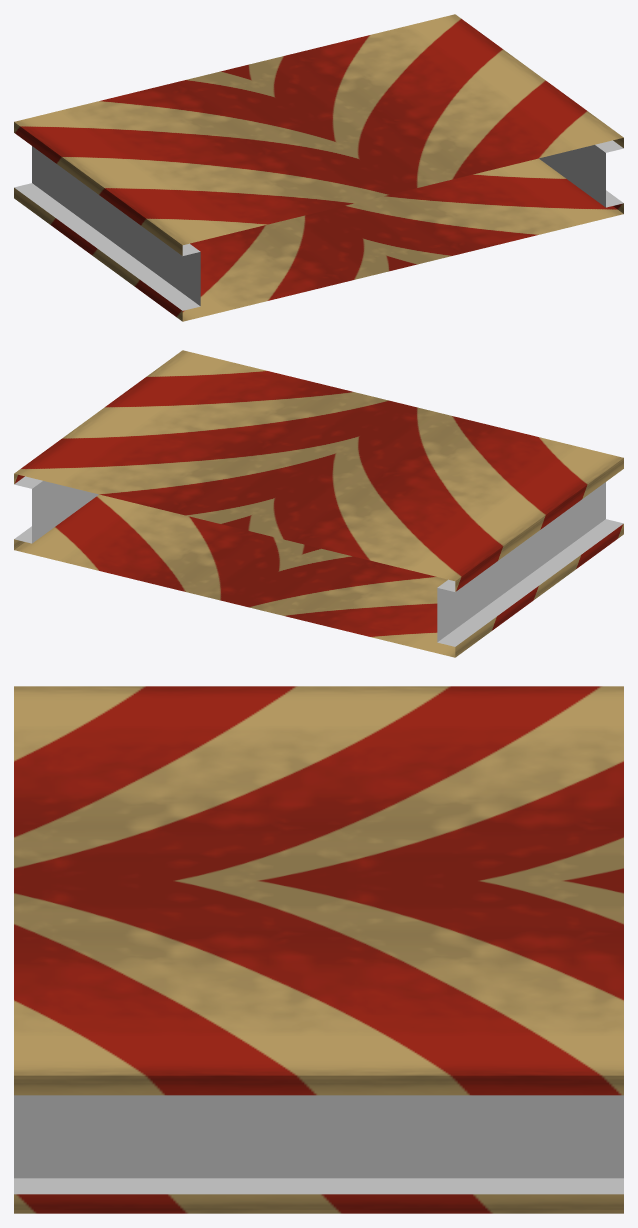
The model's file is MOD_Roller_3_Middle.FBX.
3 renders of one model, top to bottom at view 1: azimuth 30°, elevation 25°; view 2: azimuth 150°, elevation 25°; view 3: azimuth 270°, elevation 25°, orthographic. The views are drawn at different scales.
Parts seen in each view (by area): view 1: MOD_Roller_3_Middle; view 2: MOD_Roller_3_Middle; view 3: MOD_Roller_3_Middle.
Part boxes in pixels (x1,y1,x2,y2): MOD_Roller_3_Middle: (14, 14, 623, 321); MOD_Roller_3_Middle: (14, 350, 623, 657); MOD_Roller_3_Middle: (14, 686, 623, 1213).
Bounding box in the file's own units: 3.02 × 0.5 × 2.
